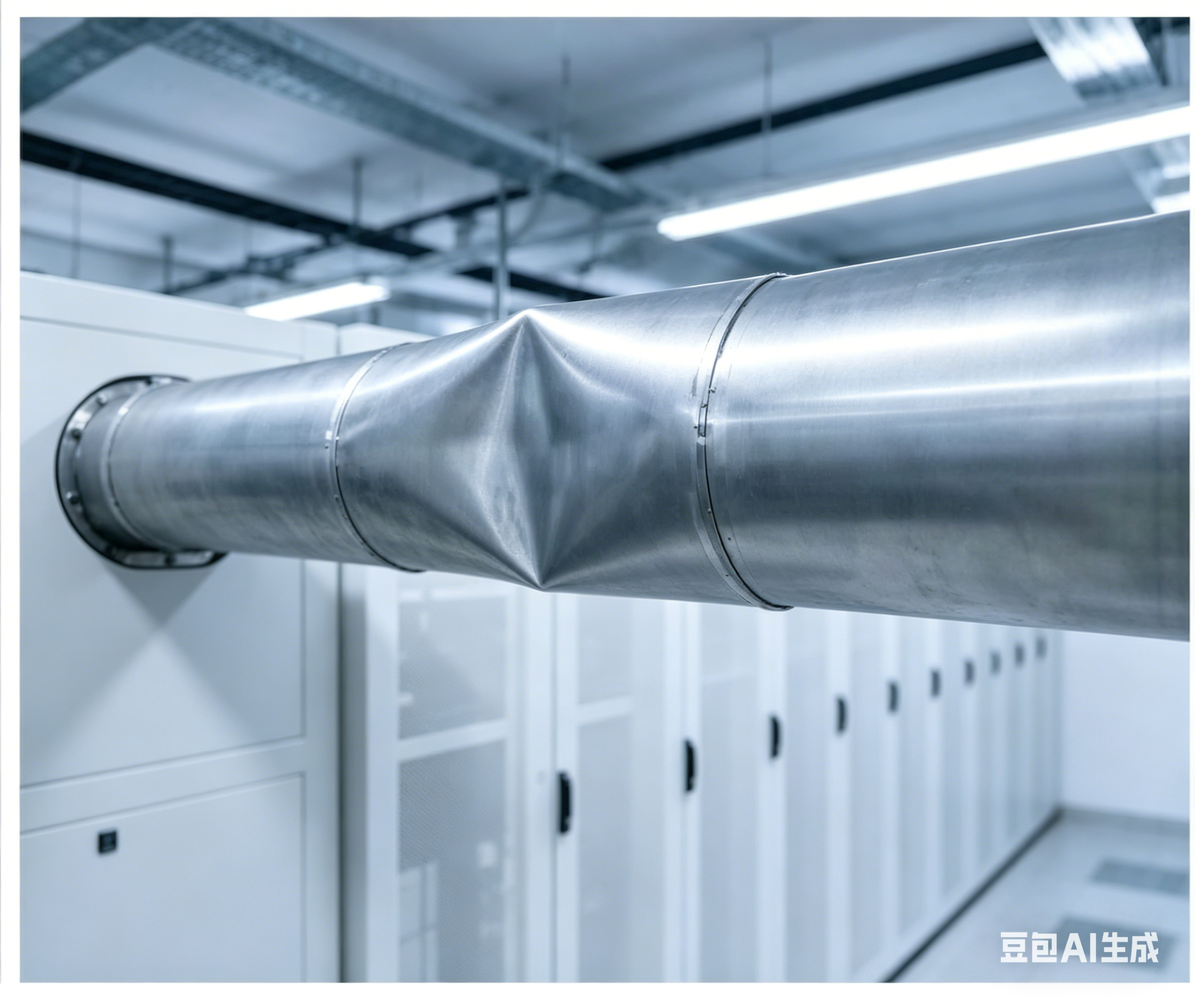Leakage: (413, 310, 654, 593)
